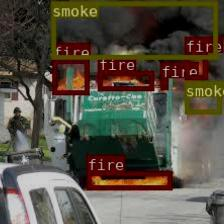fire: (86, 170, 171, 189), (51, 58, 89, 94), (96, 70, 152, 90), (184, 52, 207, 78), (160, 78, 168, 88)
smoke: (50, 0, 216, 59), (184, 81, 221, 113)
